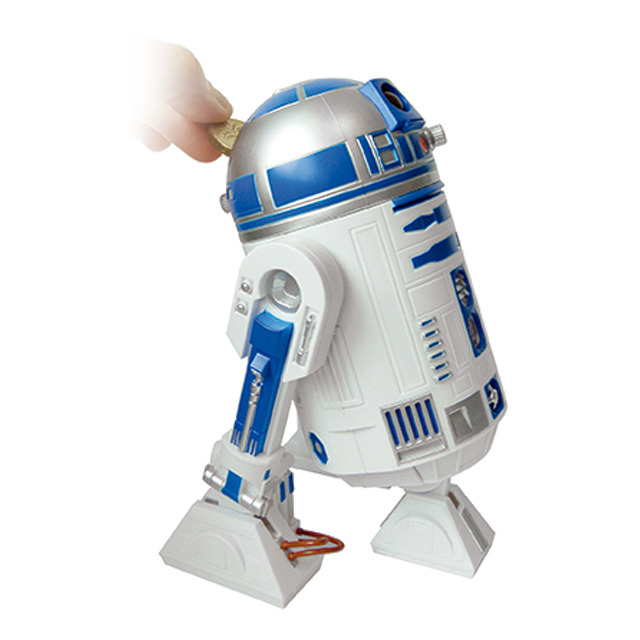r2d2: (231, 79, 511, 584)
